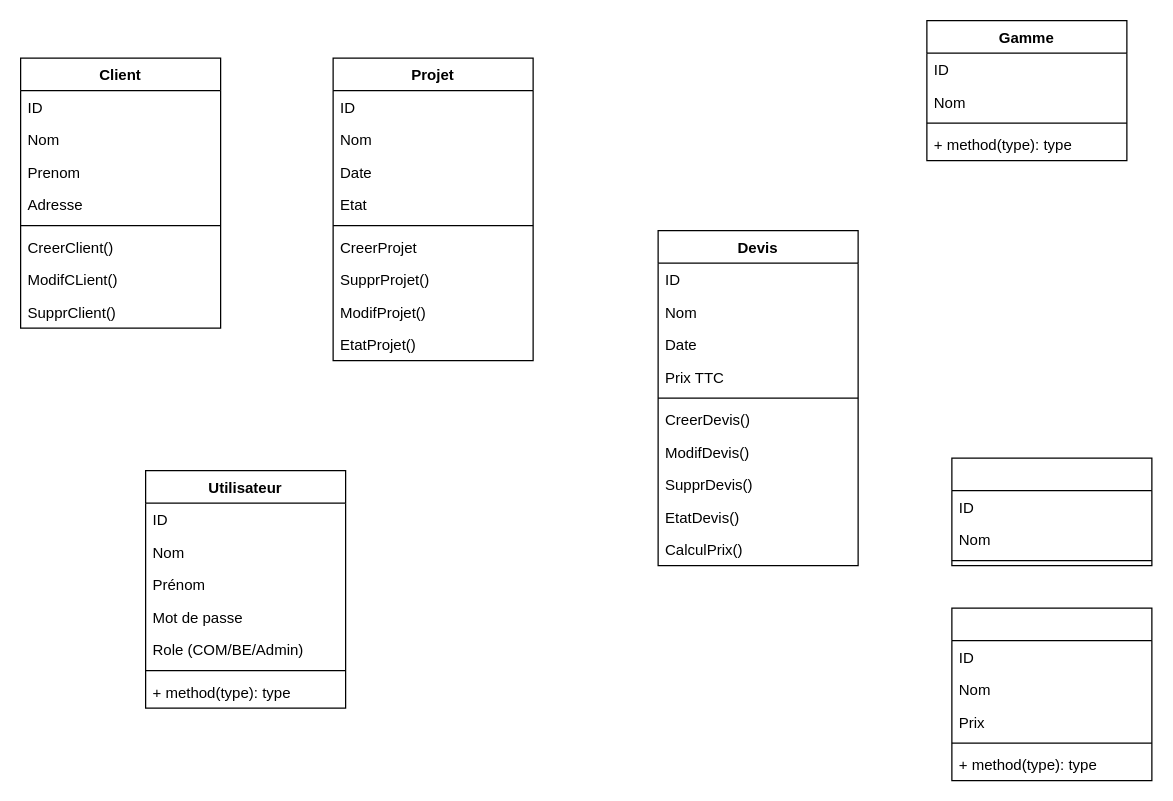
This 1173x801 diagram has some shape labels left out. Each missing label, with the box of its shape:
Composant: (951, 607, 1152, 781)
Module: (951, 457, 1152, 566)
